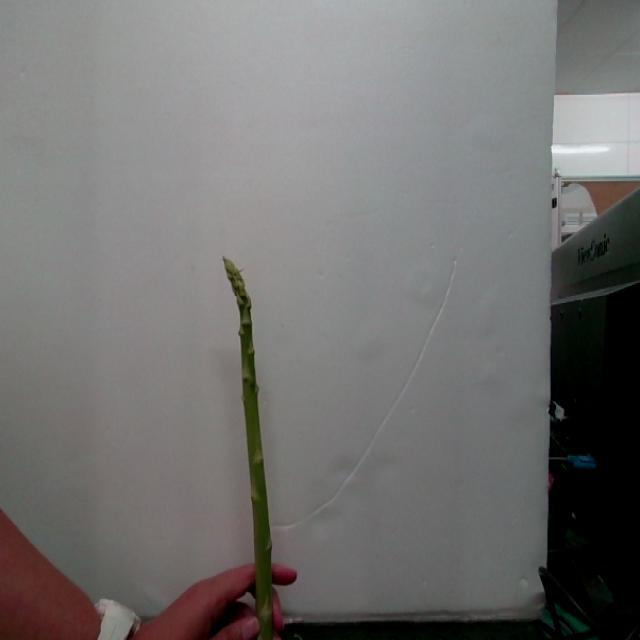aspargus: (222, 259, 277, 640)
